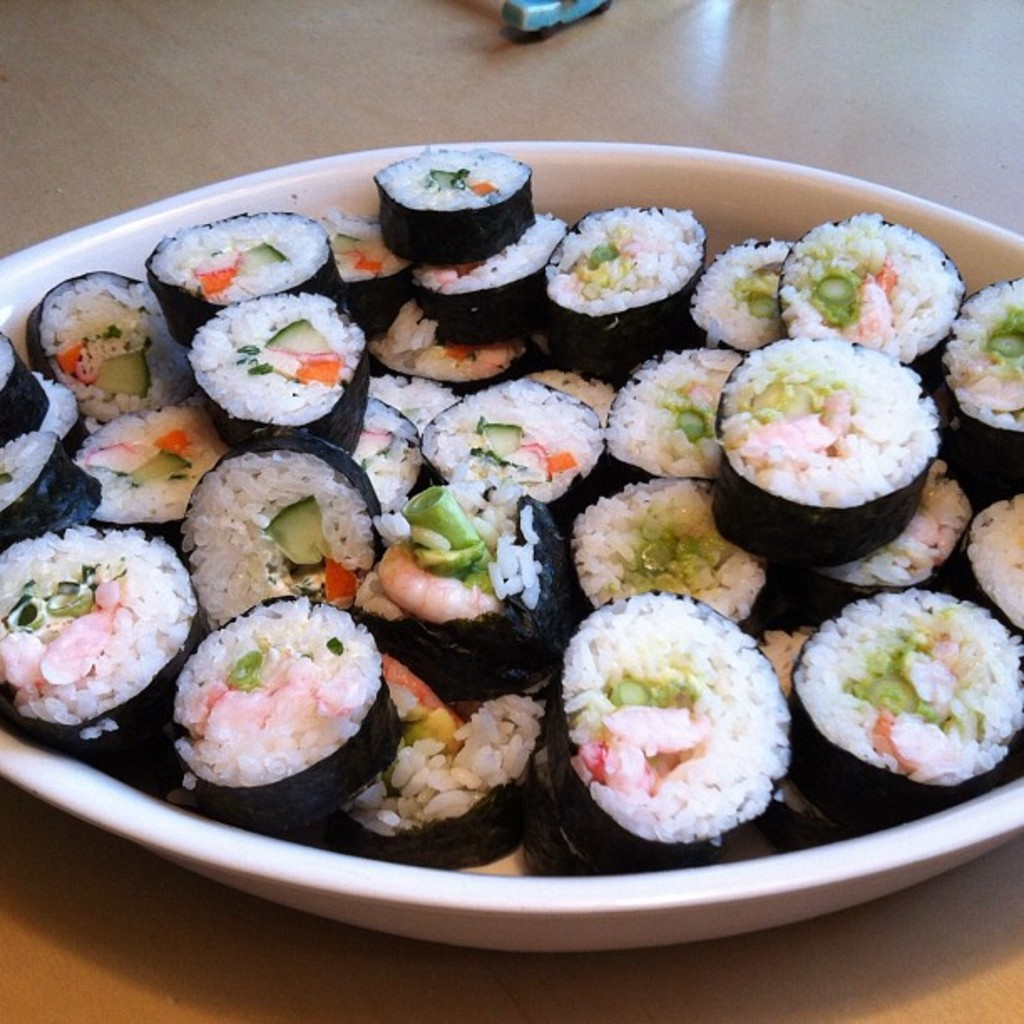sushi: (0, 151, 1022, 875), (544, 586, 801, 858)
